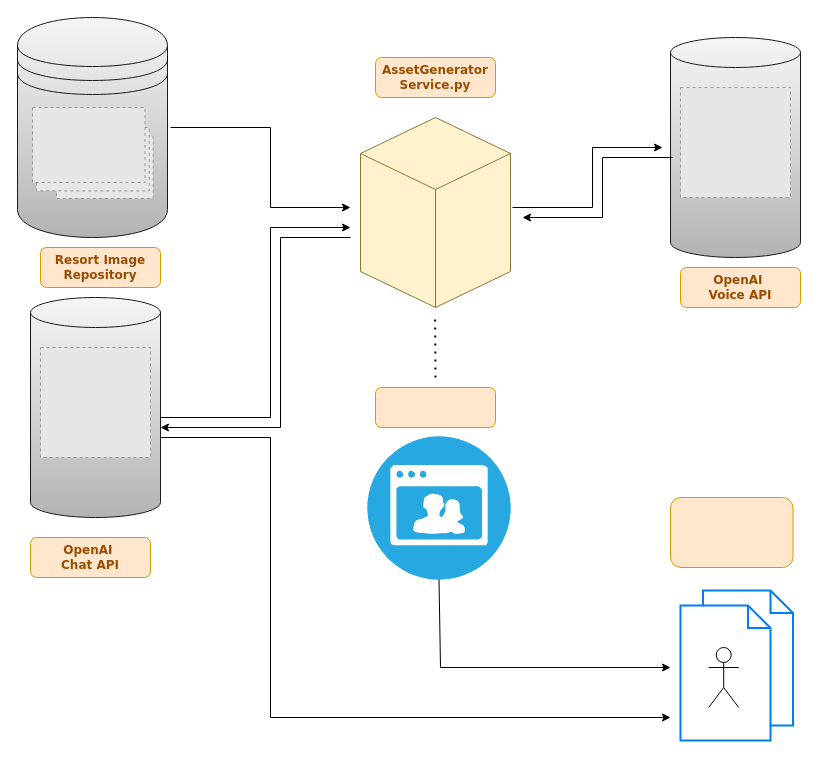
The diagram is 818 pixels wide and 759 high, and some of its shapes have lost their labels. Grey dashed boxes stand in for pictures. The centre of each missing label's shape, as x and y in pixels:
AI Generated Videos: (435,407)
Web Assets/Travel Chat Bot: (731,532)
